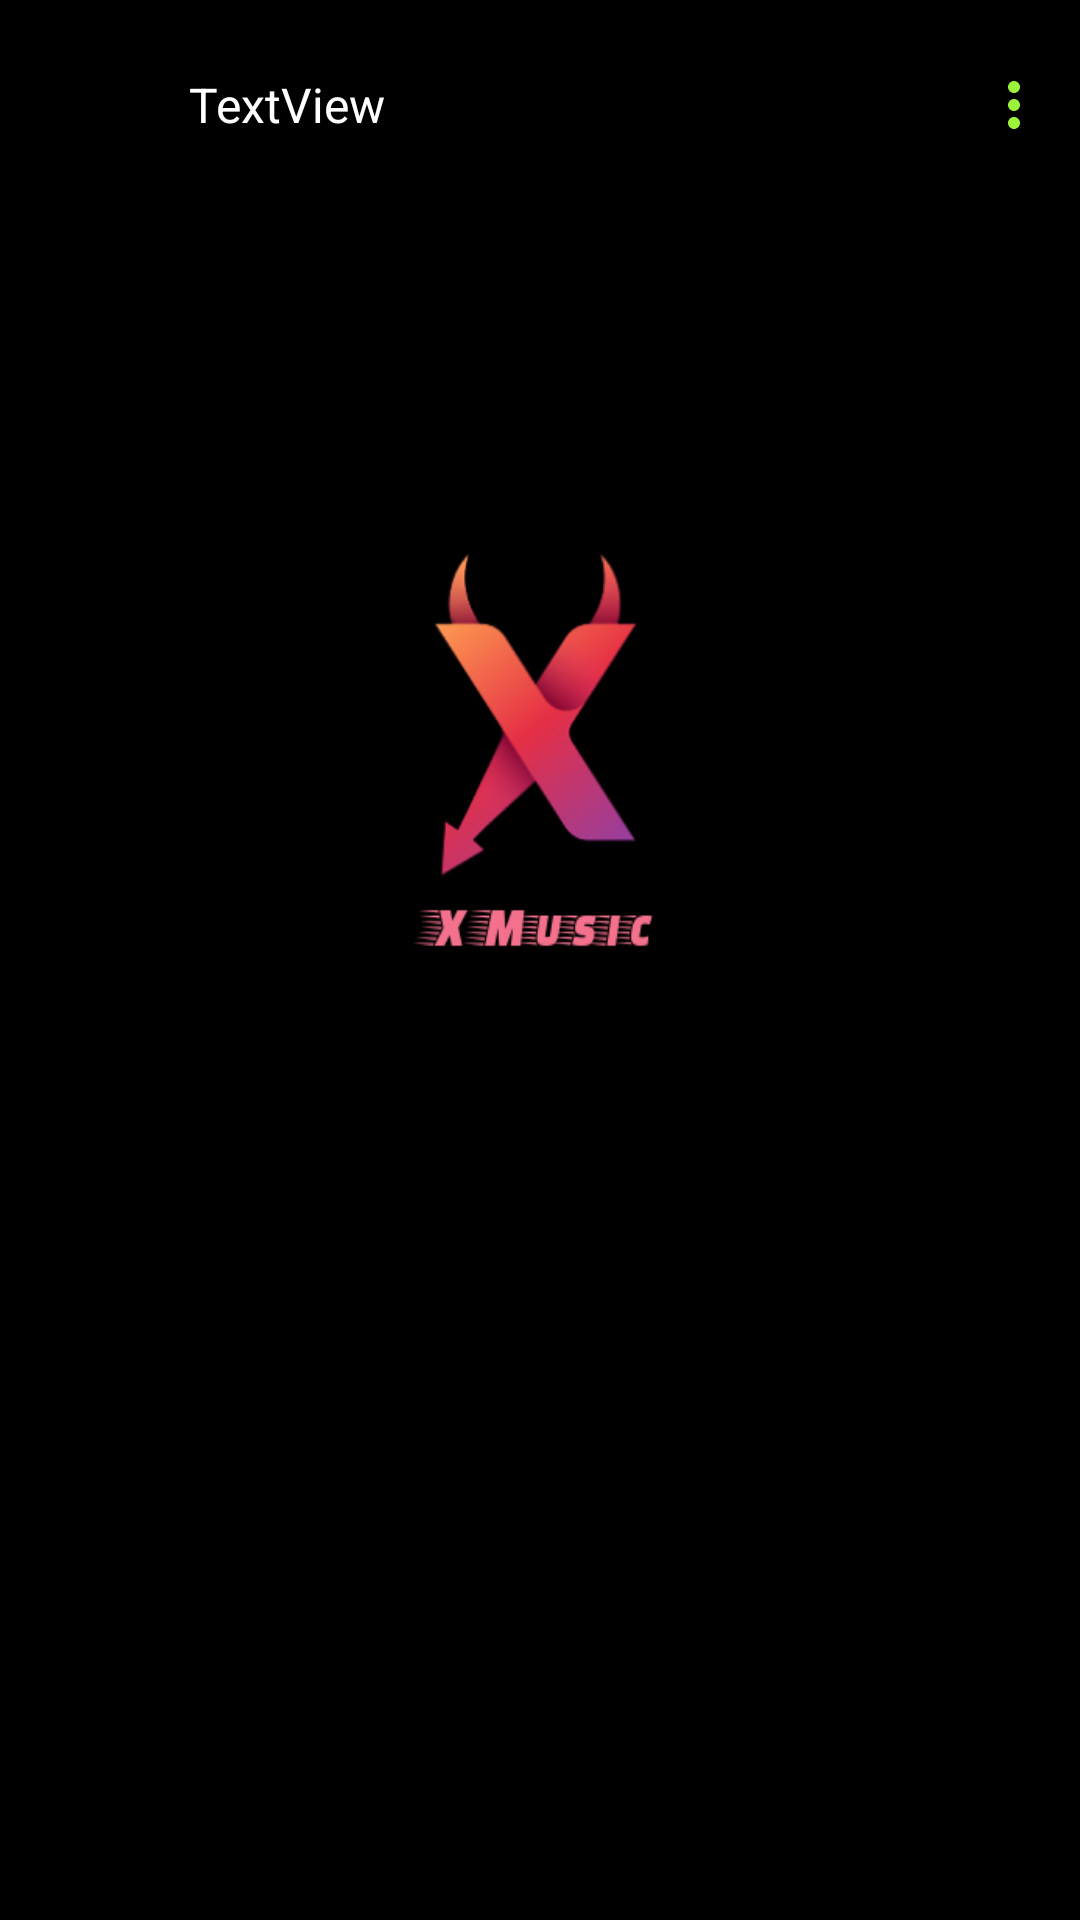

Named icons in this screenshot (1080 × 1920) and their bounding boxes, (x1, y1, x2, y2):
more: (1008, 81, 1020, 129)
